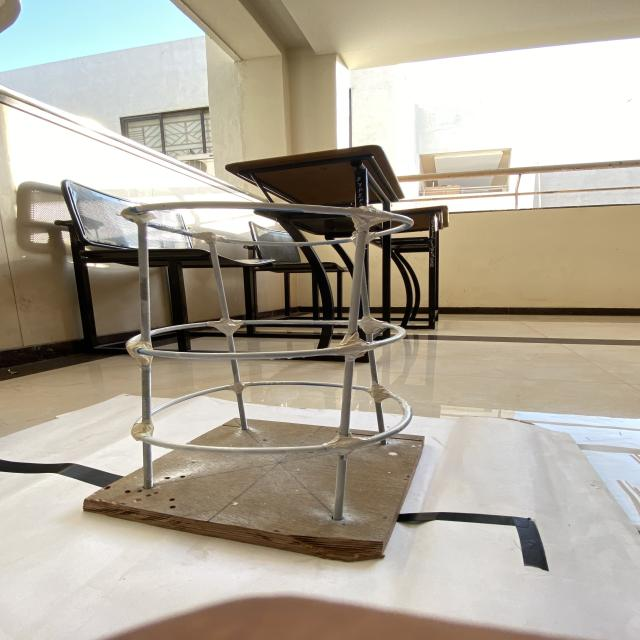silo: (101, 196, 426, 557)
